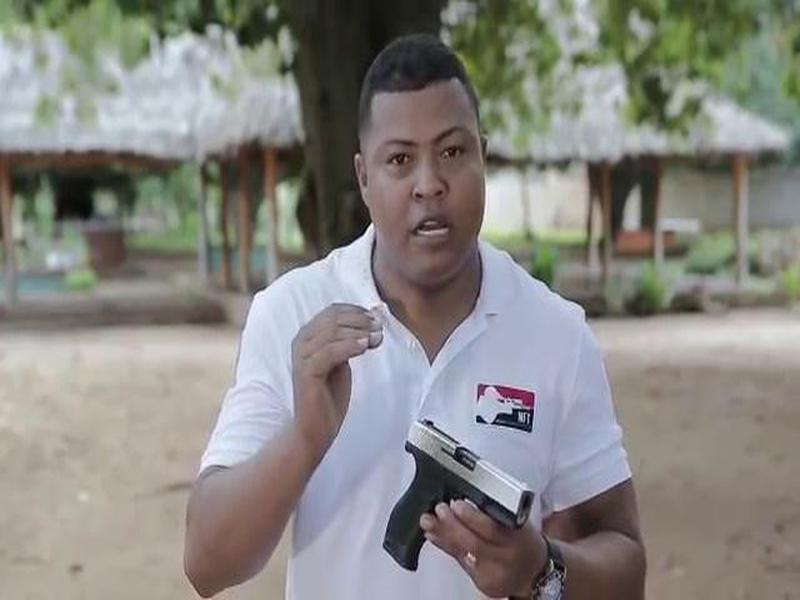Pistola: (382, 397, 547, 578)
